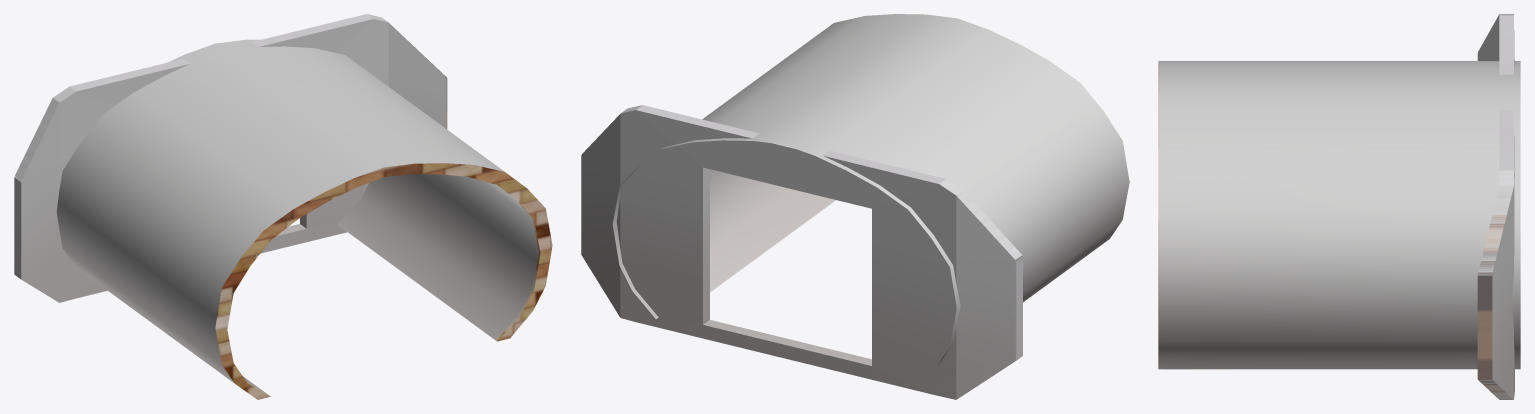
Rendered from Platform_Wall.fbx.
3 renders of one model, left to right at view 1: azimuth 30°, elevation 25°; view 2: azimuth 150°, elevation 25°; view 3: azimuth 270°, elevation 25°, orthographic. The views are drawn at different scales.
Parts seen in each view (by area): view 1: Wall_Platform; view 2: Wall_Platform; view 3: Wall_Platform.
Boxes of the visible parts, bbox=[...] form: Wall_Platform: bbox=[14, 14, 552, 399]; Wall_Platform: bbox=[581, 14, 1129, 399]; Wall_Platform: bbox=[1158, 14, 1520, 399].
Size of the model in its own units: 1496 by 711 by 1029.
Materials: 1 (1 with a texture image).
